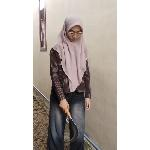Celurit: (54, 103, 82, 145)
